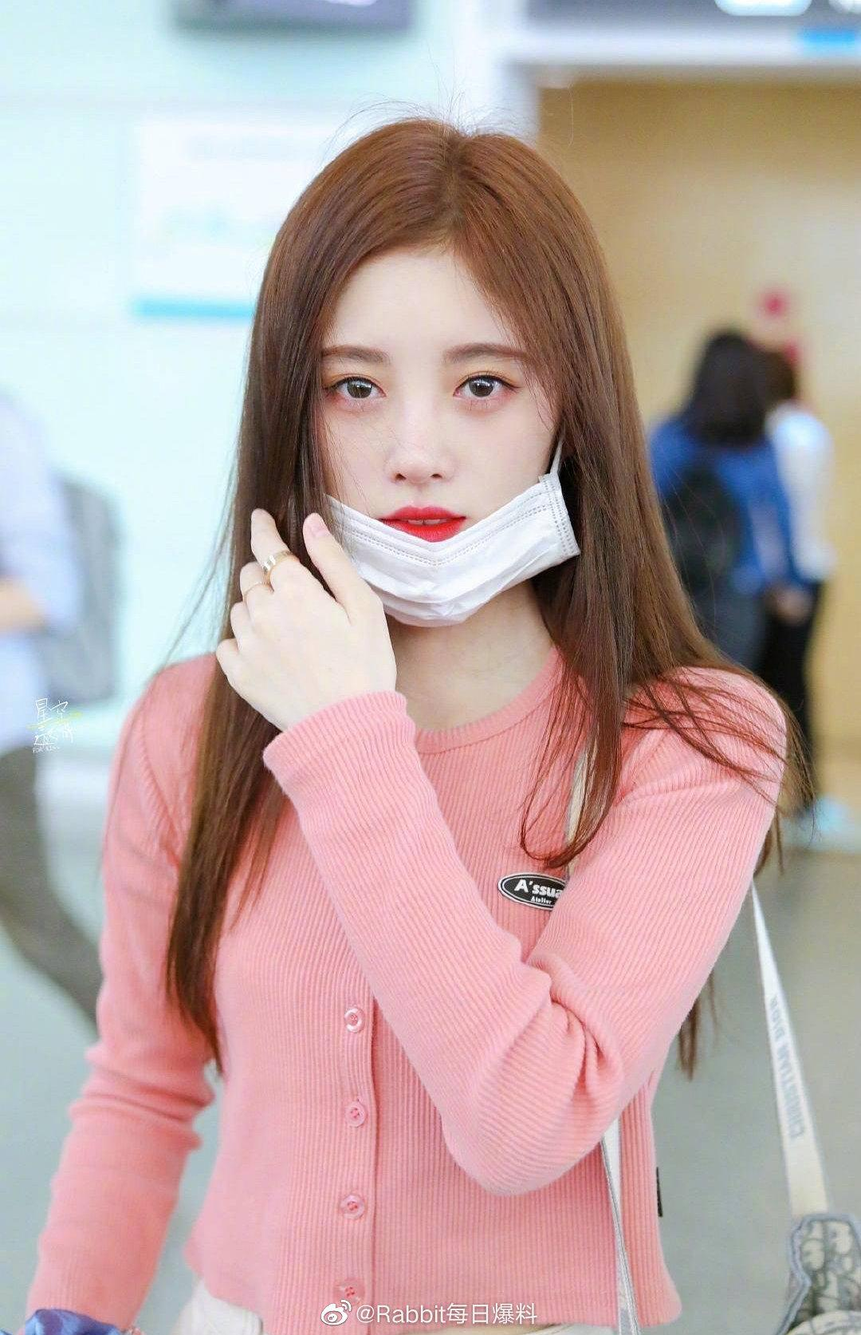WRONG: (311, 298, 556, 617)
